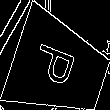P_E: (33, 42, 86, 94)
